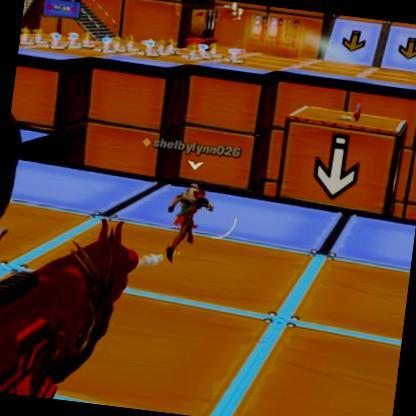person: (173, 180, 208, 257)
